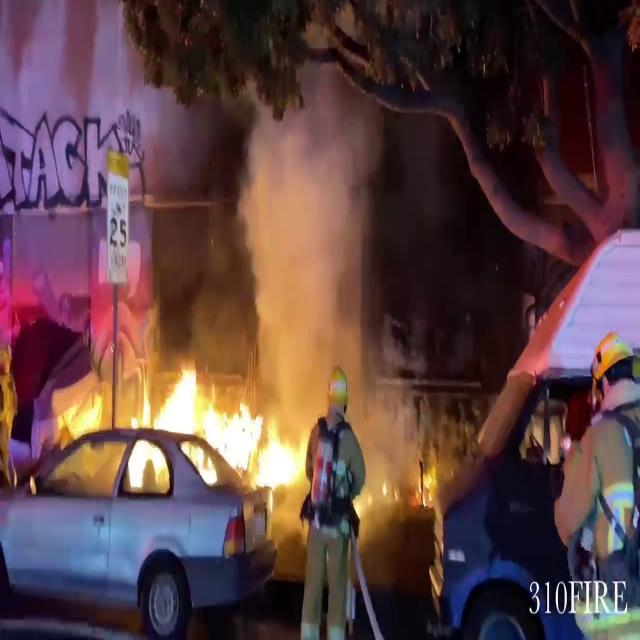Fire: (127, 354, 309, 498)
Smoke: (162, 53, 418, 396)
